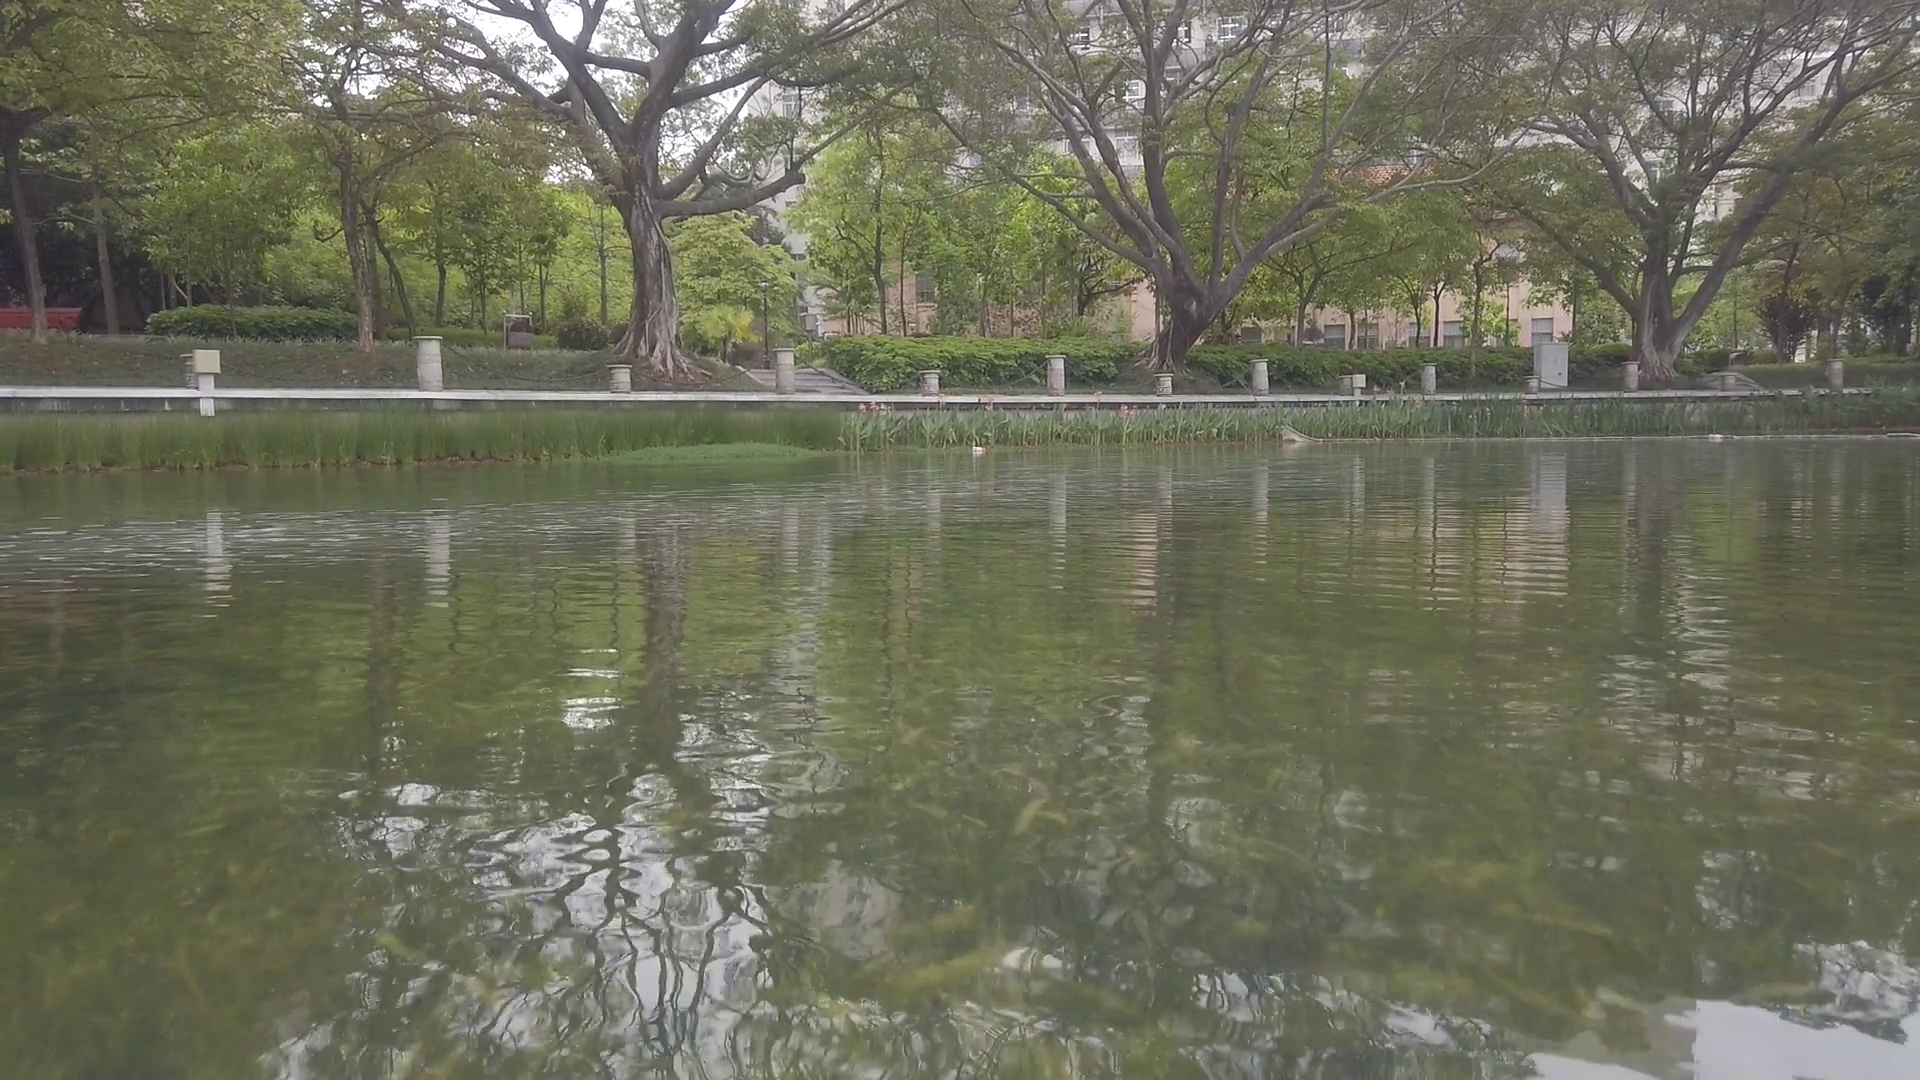bottle: (1708, 433, 1724, 440), (971, 446, 985, 454)
